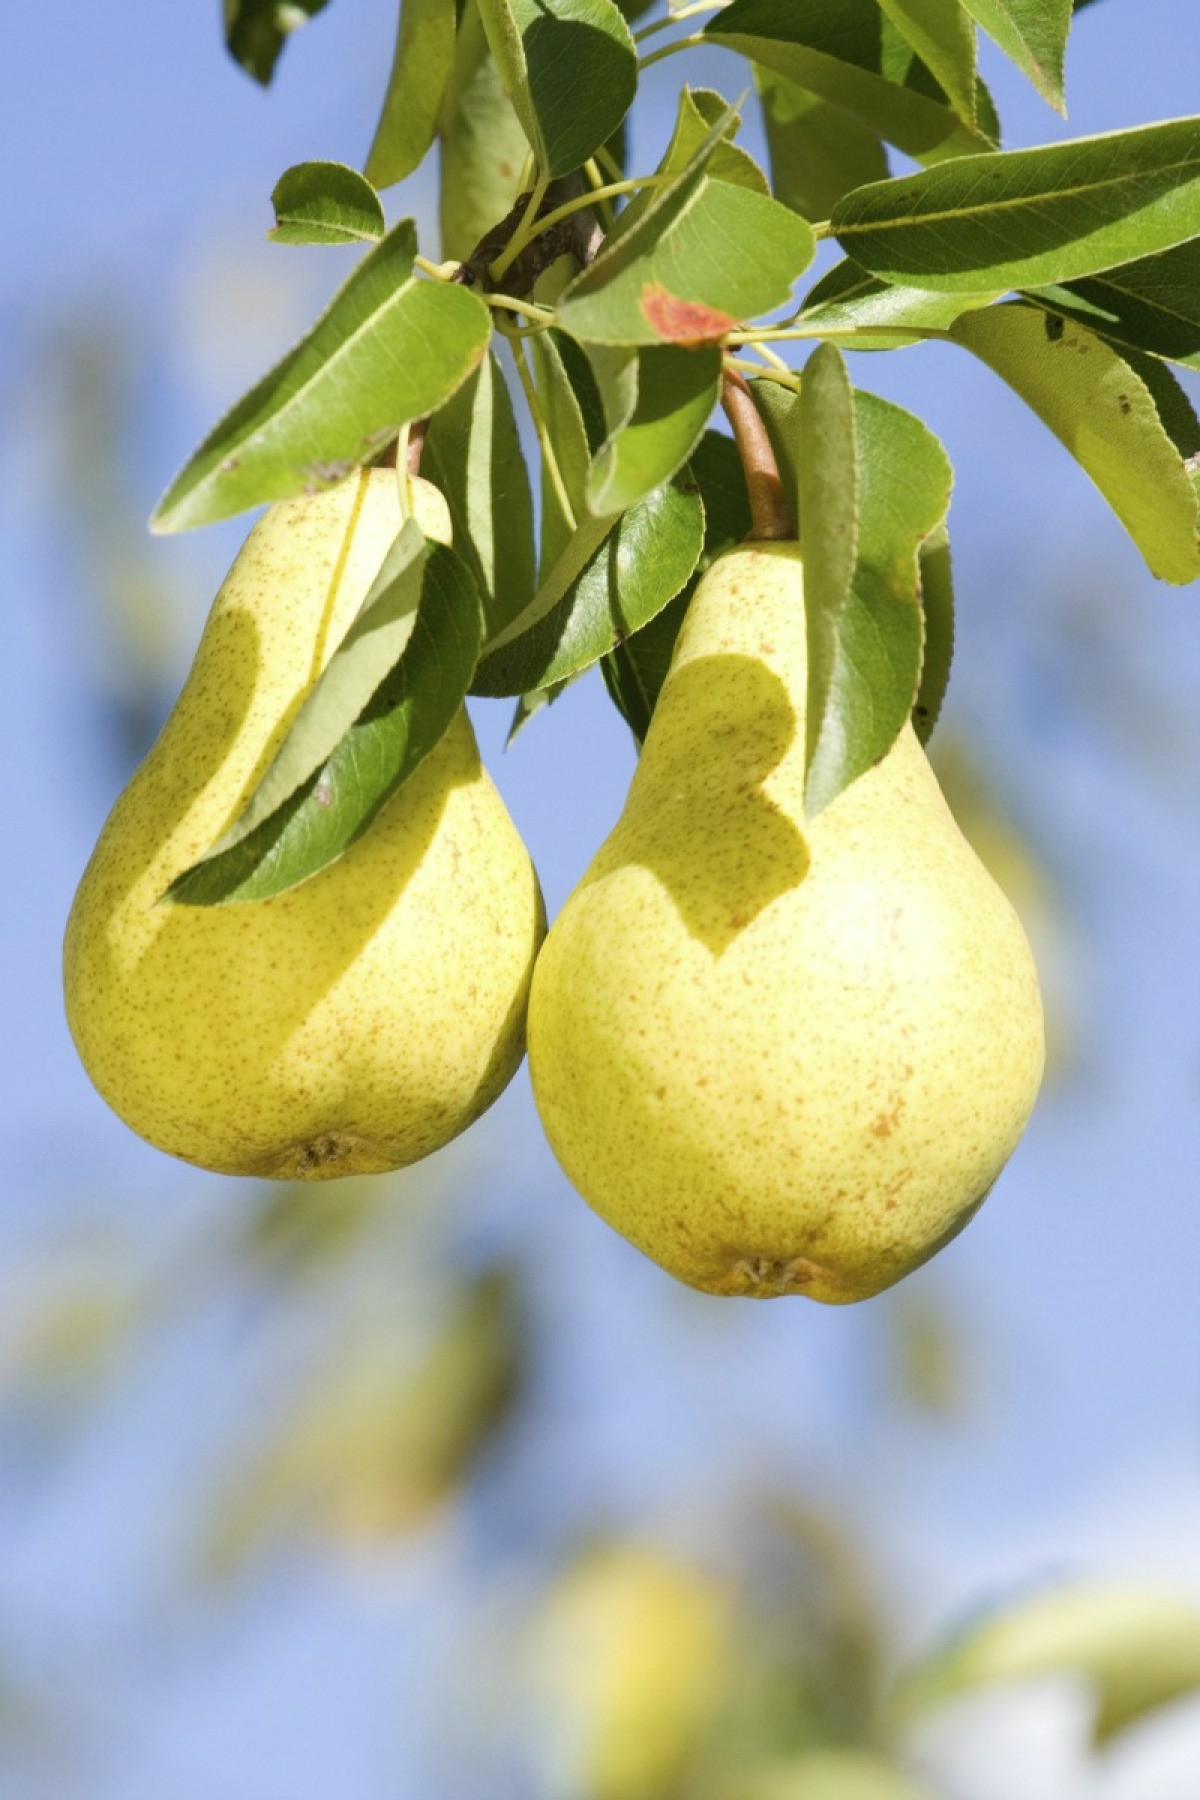pear: (530, 538, 1053, 1307), (66, 459, 550, 1184)
